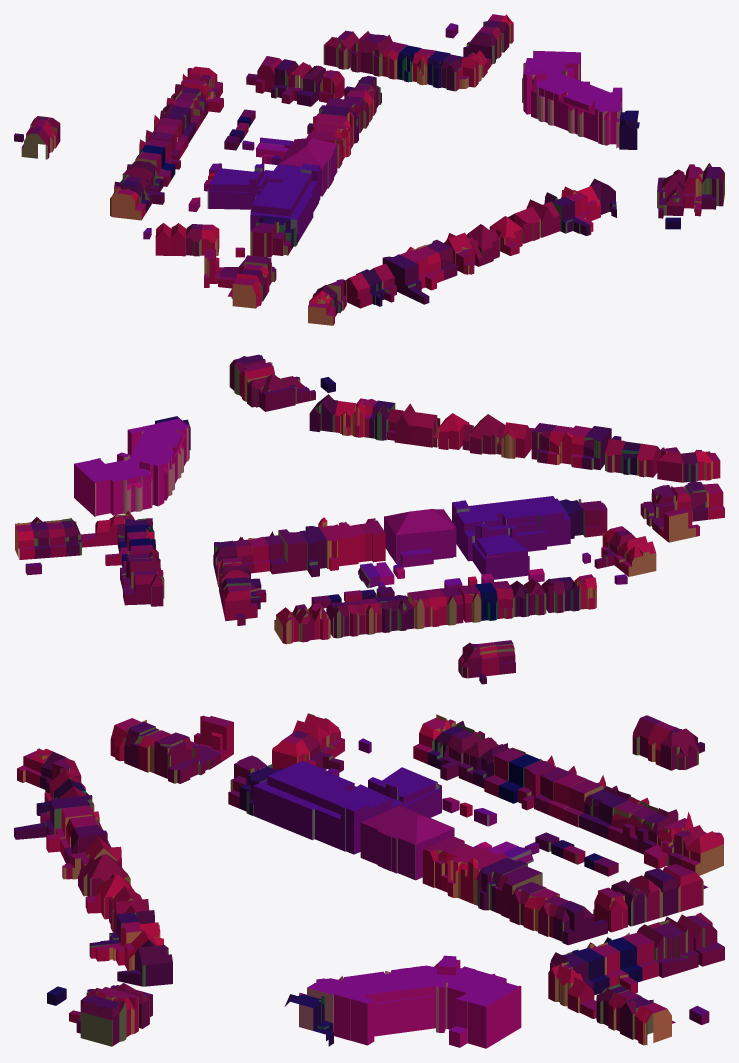
File: buildings_5_9.glb
The picture shows the model from 3 angles, top to bottom: view 1: azimuth 30°, elevation 25°; view 2: azimuth 150°, elevation 25°; view 3: azimuth 270°, elevation 25°; orthographic projection. The views are drawn at different scales.
Parts seen in each view (by area): view 1: buildings_5_9; view 2: buildings_5_9; view 3: buildings_5_9.
Boxes of the visible parts, left/top/right/bottom form: buildings_5_9: left=14, top=14, right=724, bottom=325; buildings_5_9: left=15, top=354, right=724, bottom=684; buildings_5_9: left=14, top=713, right=724, bottom=1048.
Size of the model in its own units: 210 by 16.01 by 206.
